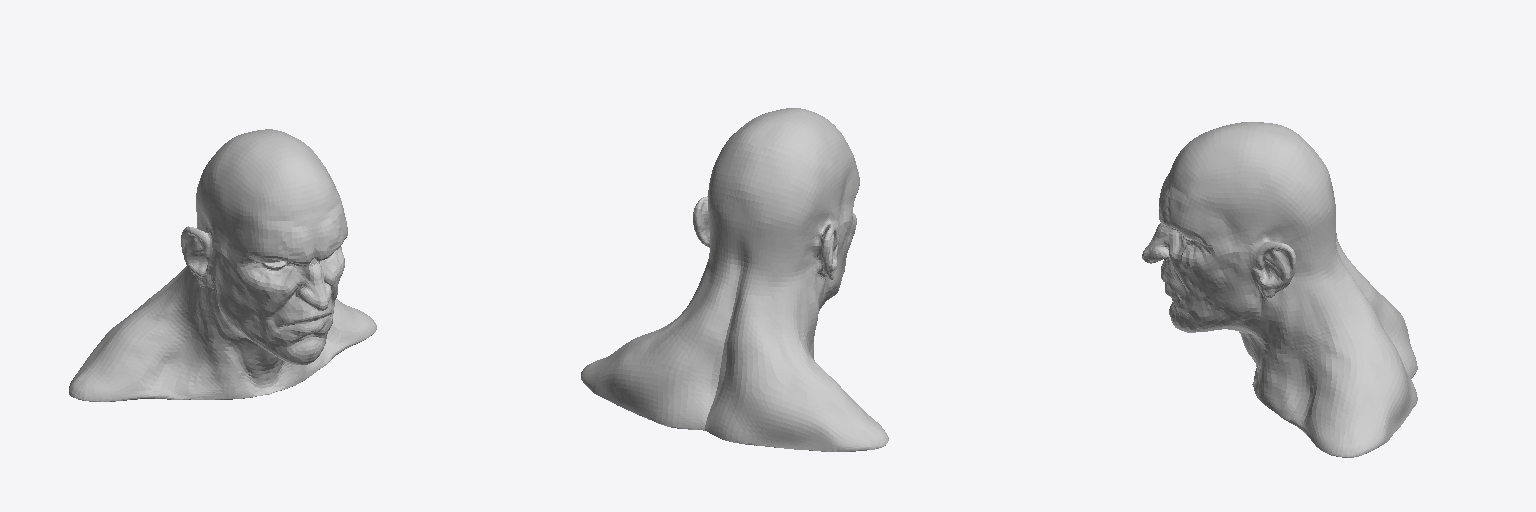
The model's file is human.obj.
3 views of the same model, side by side, from view 1: azimuth 30°, elevation 25°; view 2: azimuth 150°, elevation 25°; view 3: azimuth 270°, elevation 25° (orthographic).
Parts seen in each view (by area): view 1: HUMAN; view 2: HUMAN; view 3: HUMAN.
Boxes of the visible parts, x1=… form: HUMAN: x1=69, y1=129, x2=376, y2=401; HUMAN: x1=581, y1=108, x2=888, y2=451; HUMAN: x1=1142, y1=122, x2=1417, y2=457.
Size of the model in its own units: 3.24 by 2.63 by 2.56.